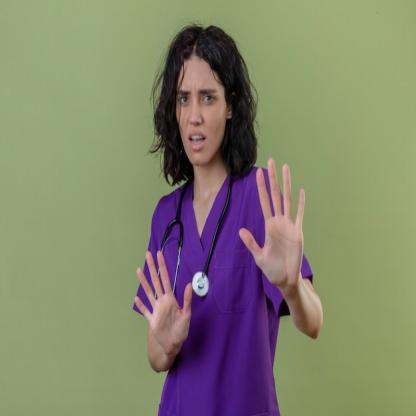stop: (236, 153, 306, 290), (131, 244, 195, 359)
